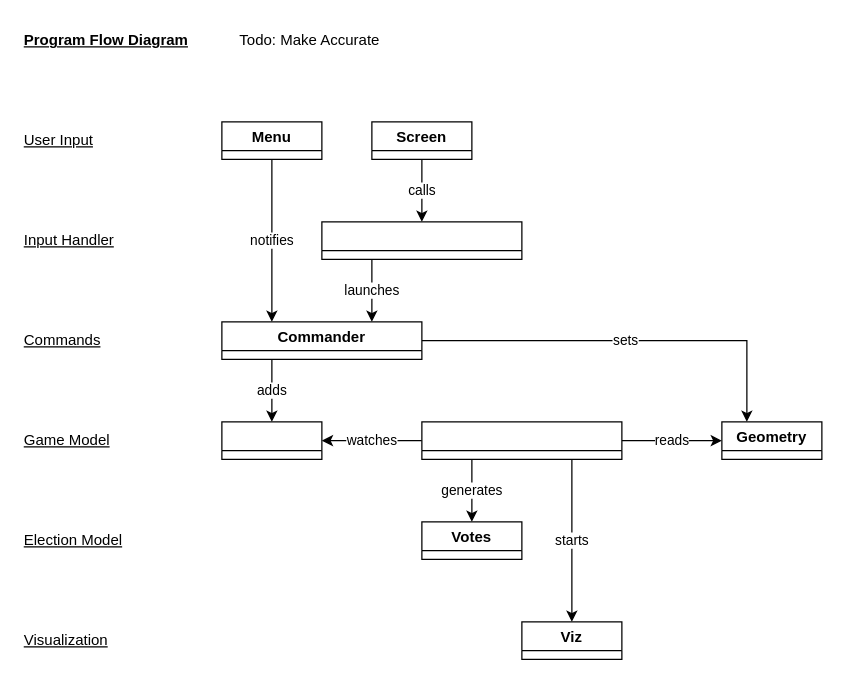
The diagram is 844 pixels wide and 681 high, and some of its shapes have lost their labels. The shapes that lost their labels are listed below. From the top down, each one's centre as x and y in pixels, then its label:
point (421, 240): DraggableManager
point (271, 440): Changes
point (521, 440): Sim
